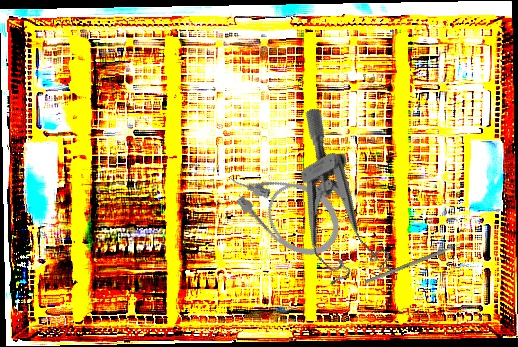Cannula: (217, 144, 353, 270)
Pusher: (364, 239, 468, 285)
Speculum: (249, 105, 408, 302)
